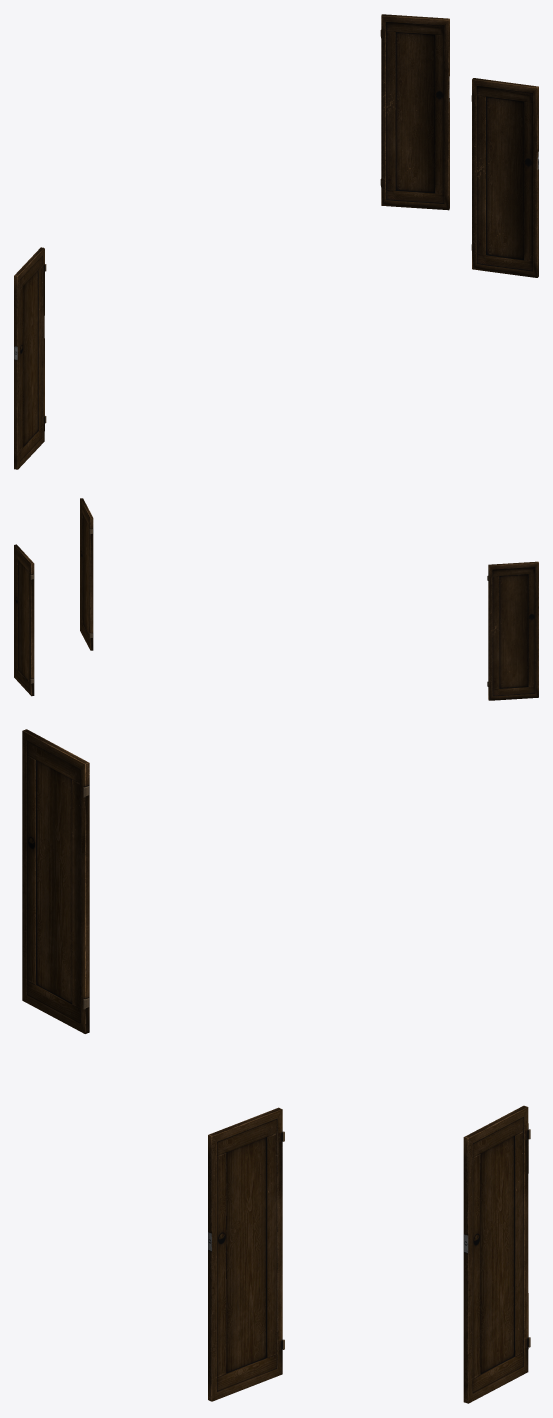
The model's file is door.obj.
The picture shows the model from 3 angles, top to bottom: view 1: azimuth 30°, elevation 25°; view 2: azimuth 150°, elevation 25°; view 3: azimuth 270°, elevation 25°; orthographic projection. The views are drawn at different scales.
Parts seen in each view (by area): view 1: door1_Mesh_0.001, door3_Mesh_0, door2_Mesh_0.002; view 2: door2_Mesh_0.002, door1_Mesh_0.001, door3_Mesh_0; view 3: door3_Mesh_0, door2_Mesh_0.002, door1_Mesh_0.001.
Part boxes in pixels (x1,y1,x2,y2): door1_Mesh_0.001: [380, 14, 449, 210]; door3_Mesh_0: [471, 78, 538, 277]; door2_Mesh_0.002: [14, 247, 46, 469]; door2_Mesh_0.002: [487, 561, 538, 700]; door1_Mesh_0.001: [14, 544, 34, 696]; door3_Mesh_0: [80, 498, 93, 650]; door3_Mesh_0: [208, 1107, 284, 1401]; door2_Mesh_0.002: [22, 729, 89, 1033]; door1_Mesh_0.001: [463, 1105, 530, 1403].
Bounding box in the file's own units: 8.51 × 2.65 × 4.52.
Materials: 3 (3 with a texture image).
